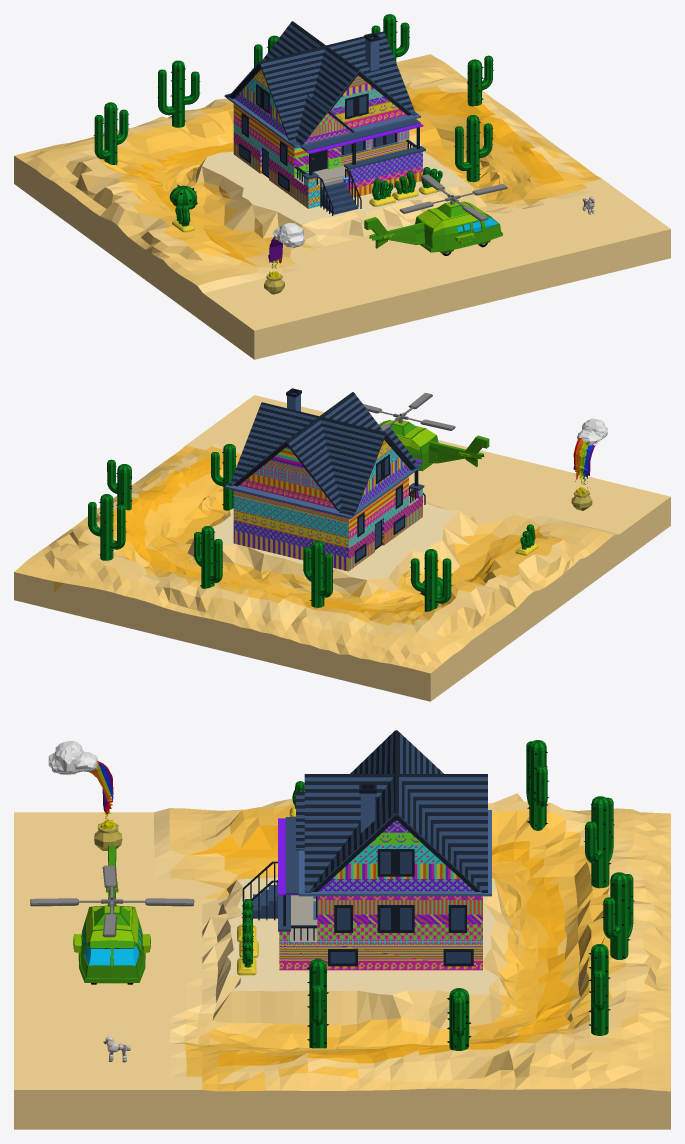
3 views of the same model, one above another, from view 1: azimuth 30°, elevation 25°; view 2: azimuth 150°, elevation 25°; view 3: azimuth 270°, elevation 25° (orthographic). The views are drawn at different scales.
Parts seen in each view (by area): view 1: Cube.001, Cube.676, VEHICLES_HELICOPTER, Cylinder.037, Cylinder.044, Cylinder.045, OBJRANDOM_RAINBOW, Cylinder.038, Cylinder.042, Cylinder.039, Sphere.023, Cylinder.040; view 2: Cube.001, Cube.676, VEHICLES_HELICOPTER, Cylinder.042, Cylinder.045, OBJRANDOM_RAINBOW, Cylinder.044, Cylinder.043, Cylinder.037, Cylinder.038; view 3: Cube.001, Cube.676, VEHICLES_HELICOPTER, OBJRANDOM_RAINBOW, Cylinder.043, Cylinder.044, Cylinder.045, Cylinder.042, Cylinder.037, Cylinder.038, Cylinder.041.
Part boxes in pixels (left/top/right/bottom): Cube.001: left=14, top=54, right=670, bottom=359; Cube.676: left=224, top=21, right=425, bottom=215; VEHICLES_HELICOPTER: left=364, top=174, right=507, bottom=255; Cylinder.037: left=454, top=115, right=493, bottom=182; Cylinder.044: left=157, top=60, right=200, bottom=127; Cylinder.045: left=93, top=102, right=129, bottom=164; OBJRANDOM_RAINBOW: left=264, top=223, right=305, bottom=294; Cylinder.038: left=467, top=55, right=493, bottom=106; Cylinder.042: left=371, top=14, right=409, bottom=62; Cylinder.039: left=369, top=179, right=395, bottom=206; Sphere.023: left=169, top=184, right=197, bottom=209; Cylinder.040: left=392, top=171, right=418, bottom=200; Cube.001: left=14, top=395, right=670, bottom=701; Cube.676: left=225, top=388, right=425, bottom=571; VEHICLES_HELICOPTER: left=363, top=393, right=489, bottom=471; Cylinder.042: left=88, top=494, right=126, bottom=560; Cylinder.045: left=410, top=549, right=452, bottom=611; OBJRANDOM_RAINBOW: left=571, top=418, right=607, bottom=510; Cylinder.044: left=303, top=540, right=333, bottom=607; Cylinder.043: left=193, top=526, right=222, bottom=588; Cylinder.037: left=211, top=444, right=240, bottom=510; Cylinder.038: left=107, top=459, right=131, bottom=510; Cube.001: left=14, top=793, right=670, bottom=1129; Cube.676: left=242, top=730, right=491, bottom=970; VEHICLES_HELICOPTER: left=30, top=845, right=194, bottom=984; OBJRANDOM_RAINBOW: left=48, top=741, right=122, bottom=850; Cylinder.043: left=602, top=872, right=634, bottom=959; Cylinder.044: left=584, top=796, right=614, bottom=888; Cylinder.045: left=526, top=740, right=548, bottom=830; Cylinder.042: left=588, top=944, right=610, bottom=1035; Cylinder.037: left=307, top=958, right=328, bottom=1048; Cylinder.038: left=447, top=988, right=471, bottom=1050; Cylinder.041: left=237, top=932, right=256, bottom=975.
Bounding box in the file's own units: 4002 × 1605 × 4001.
40 materials, 6 textured.
